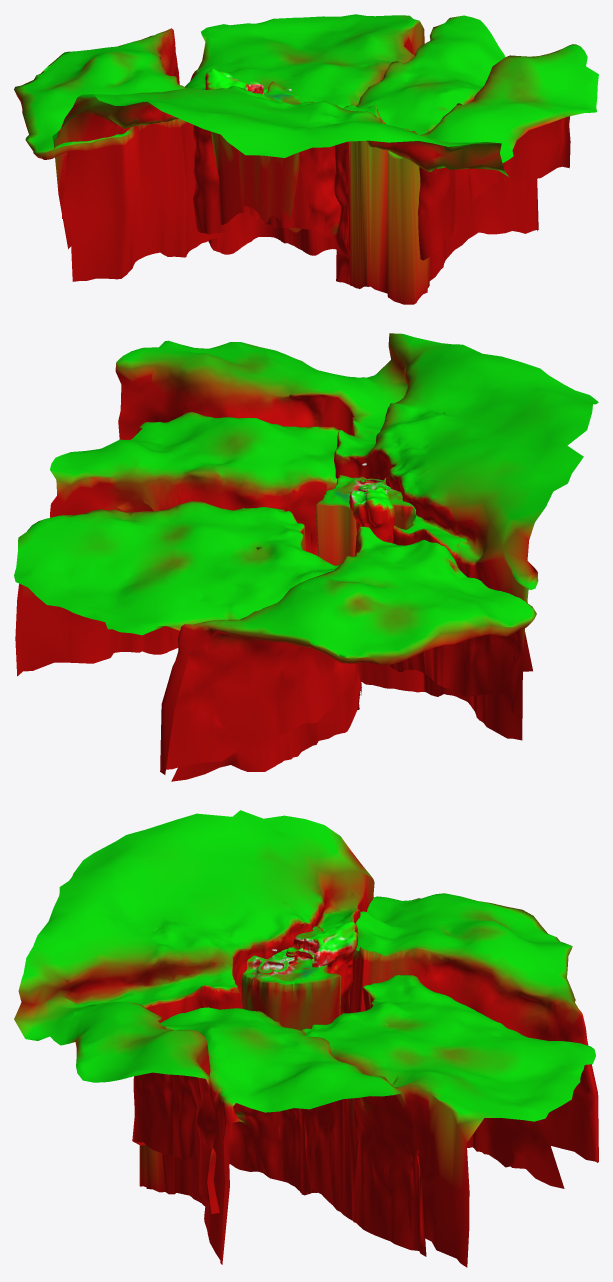
Rendered from spmGPFlower (merge).fbx.
The picture shows the model from 3 angles, top to bottom: view 1: azimuth 30°, elevation 25°; view 2: azimuth 150°, elevation 25°; view 3: azimuth 270°, elevation 25°; orthographic projection. The views are drawn at different scales.
Visible parts, largest first — view 1: GPTerrainMeshDistant, GPTerrainMesh, GPTerrainBackwall; view 2: GPTerrainMeshDistant, GPTerrainMesh, GPTerrainBackwall; view 3: GPTerrainMeshDistant, GPTerrainMesh, GPTerrainBackwall.
Boxes of the visible parts, left/top/right/bottom form: GPTerrainMeshDistant: left=14, top=14, right=598, bottom=304; GPTerrainMesh: left=211, top=81, right=314, bottom=232; GPTerrainBackwall: left=205, top=68, right=264, bottom=94; GPTerrainMeshDistant: left=14, top=333, right=598, bottom=781; GPTerrainMesh: left=315, top=475, right=416, bottom=565; GPTerrainBackwall: left=349, top=487, right=394, bottom=542; GPTerrainMeshDistant: left=14, top=810, right=598, bottom=1267; GPTerrainMesh: left=241, top=925, right=341, bottom=1030; GPTerrainBackwall: left=297, top=922, right=357, bottom=1005.
Size of what is drawn, in the model's own units: 3799 by 1929 by 3836.
